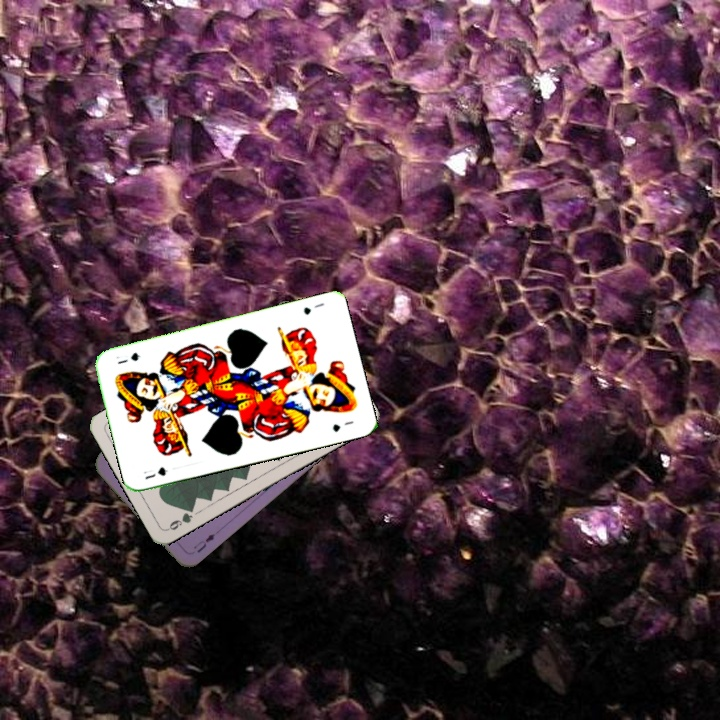EU: (189, 529, 218, 555)
G9: (164, 502, 197, 533)
GU: (139, 463, 171, 482), (299, 299, 327, 317)
